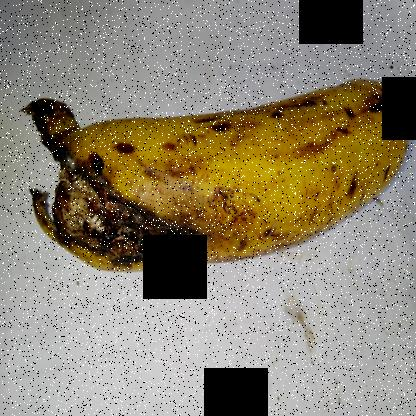rotten: (20, 89, 201, 304)
